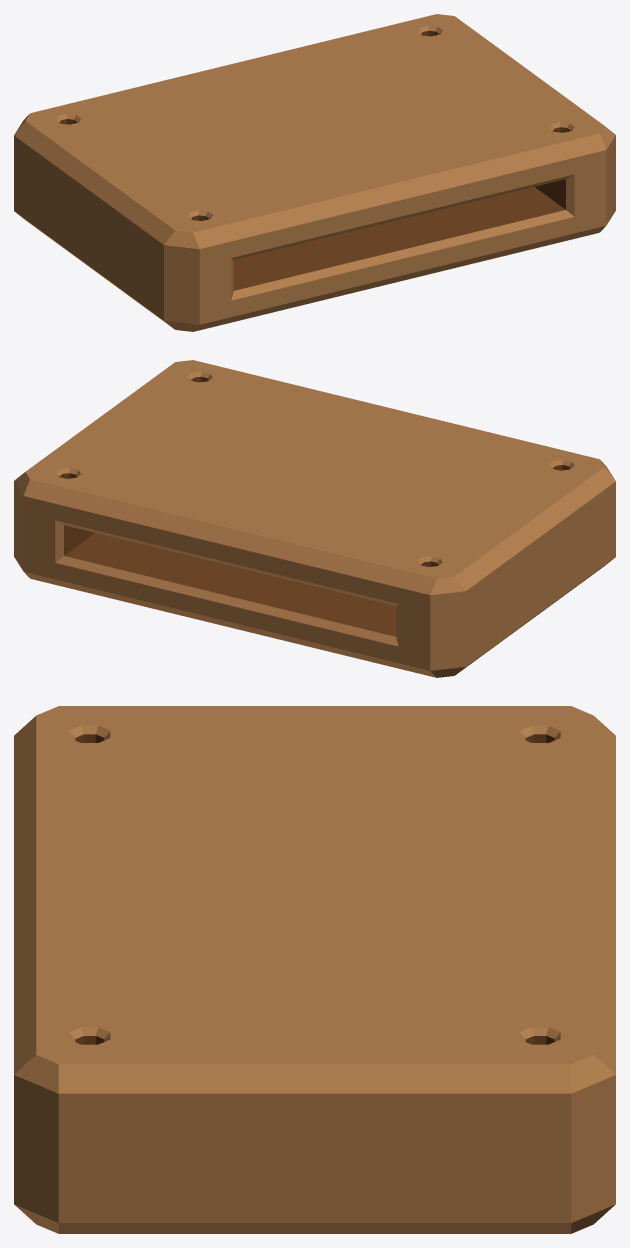
Rendered from woodblock-b1d33d.glb.
The picture shows the model from 3 angles, top to bottom: view 1: azimuth 30°, elevation 25°; view 2: azimuth 150°, elevation 25°; view 3: azimuth 270°, elevation 25°; orthographic projection. The views are drawn at different scales.
Parts seen in each view (by area): view 1: woodblock-body; view 2: woodblock-body; view 3: woodblock-body.
Boxes of the visible parts, left/top/right/bottom form: woodblock-body: left=14, top=14, right=615, bottom=331; woodblock-body: left=14, top=360, right=615, bottom=677; woodblock-body: left=14, top=706, right=615, bottom=1233.
Size of the model in its own units: 0.2 by 0.042 by 0.135.
